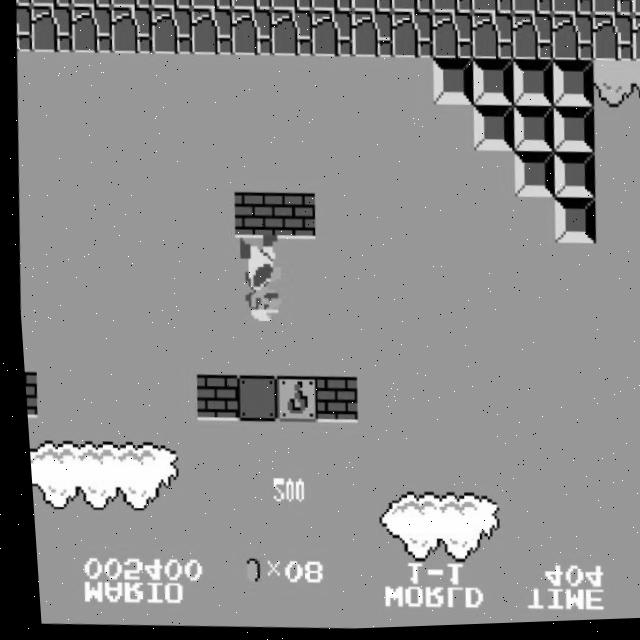1- brick_block: (269, 194, 315, 243), (229, 192, 274, 242), (189, 375, 234, 424), (309, 378, 354, 426), (19, 372, 33, 418)
13- mystery_block: (269, 377, 315, 425)
17- undestructible_block: (269, 10, 315, 60), (309, 11, 355, 61), (389, 13, 435, 63), (68, 6, 114, 55), (349, 12, 395, 61), (469, 15, 515, 64), (509, 16, 555, 65), (549, 17, 595, 66), (589, 18, 635, 67), (149, 7, 194, 57), (429, 14, 474, 64), (29, 5, 74, 54), (109, 7, 154, 56), (189, 9, 234, 58), (229, 10, 274, 59), (14, 5, 34, 53), (591, 0, 634, 22), (510, 0, 554, 20), (551, 0, 594, 20), (470, 0, 514, 19), (430, 0, 474, 18), (390, 0, 433, 17), (350, 0, 393, 16), (310, 0, 353, 15), (270, 0, 313, 14), (230, 0, 273, 13), (629, 20, 640, 68), (150, 0, 193, 12), (190, 0, 233, 12), (110, 0, 153, 10), (70, 0, 113, 9), (30, 0, 72, 8), (630, 0, 640, 22), (16, 0, 32, 7)
3- empty_block: (229, 376, 275, 424)
4- fire_mario: (229, 236, 282, 333)
9- hard_block: (429, 60, 475, 110), (469, 107, 515, 156), (509, 108, 555, 157), (509, 62, 555, 111), (549, 200, 595, 249), (549, 63, 595, 112), (550, 108, 595, 158), (509, 154, 555, 202), (469, 61, 514, 110), (550, 155, 595, 203)
